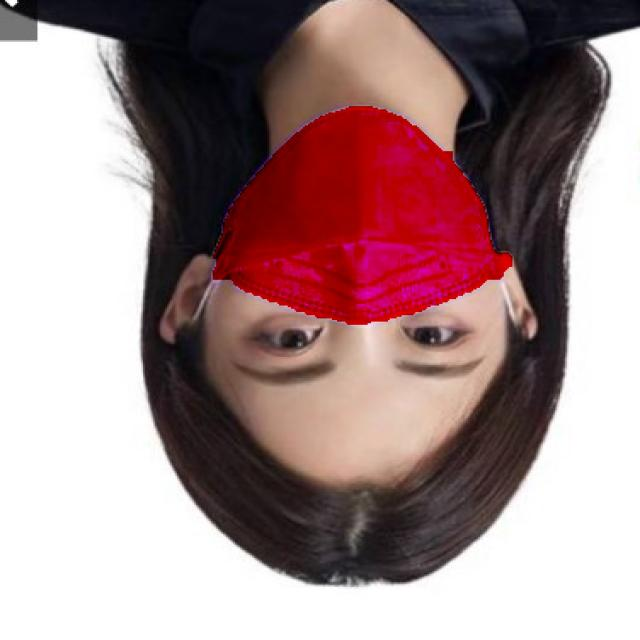Mask: (190, 98, 520, 332)
